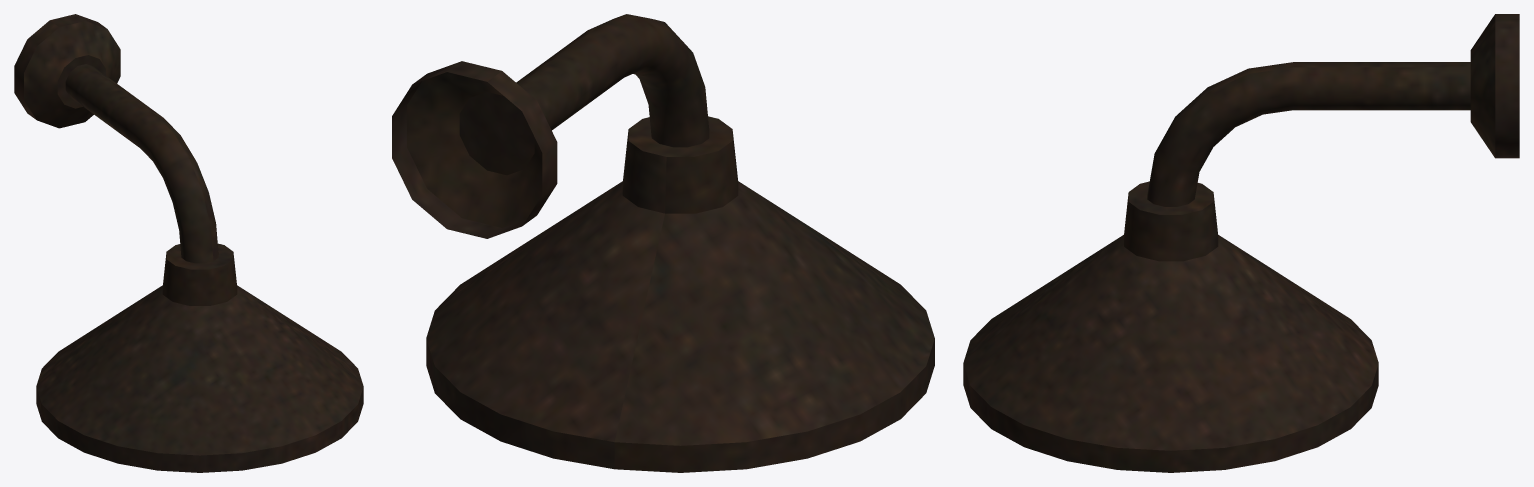
Rendered from lamp_mx_2_off.obj.
The picture shows the model from 3 angles, left to right: view 1: azimuth 30°, elevation 25°; view 2: azimuth 150°, elevation 25°; view 3: azimuth 270°, elevation 25°; orthographic projection. The views are drawn at different scales.
Parts seen in each view (by area): view 1: lamp_mx_2_off; view 2: lamp_mx_2_off; view 3: lamp_mx_2_off.
Part boxes in pixels (<box>): lamp_mx_2_off: <box>14,14,363,472</box>; lamp_mx_2_off: <box>392,14,934,472</box>; lamp_mx_2_off: <box>963,14,1519,472</box>.
Bounding box in the file's own units: 0.357 × 0.3682 × 0.478.
